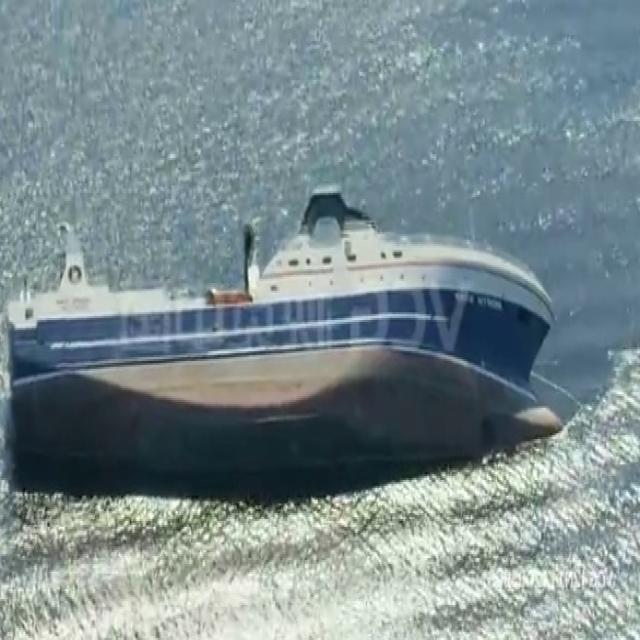passenger ship: (1, 184, 565, 469)
